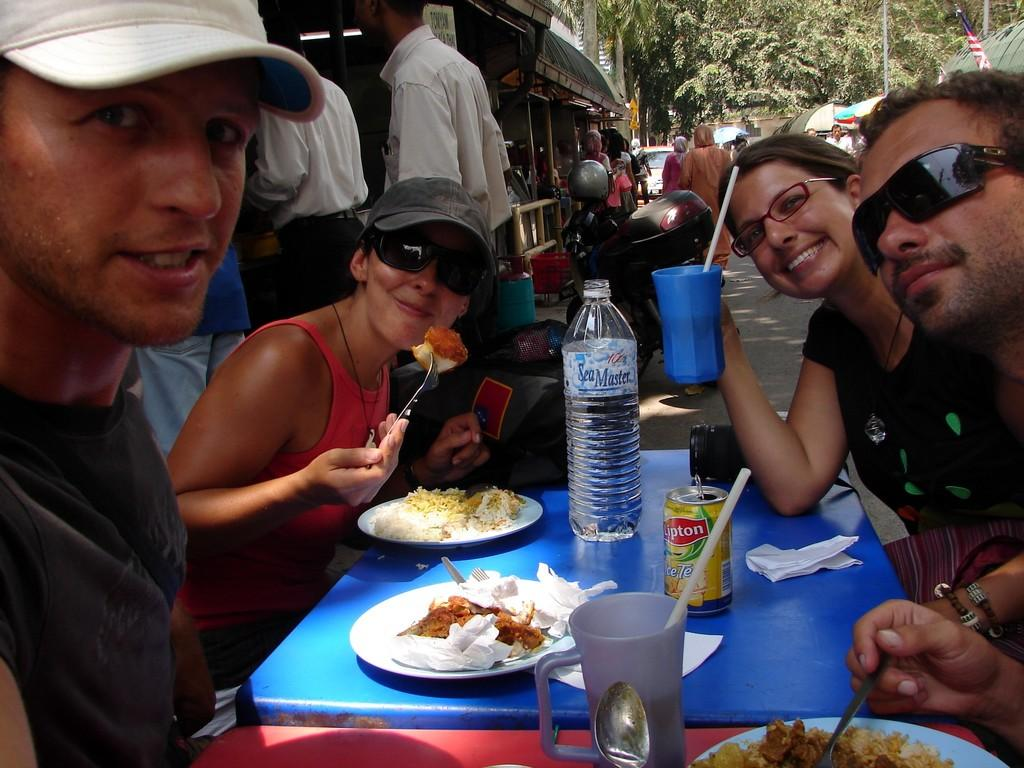Hat: (0, 0, 320, 127), (358, 177, 496, 280)
